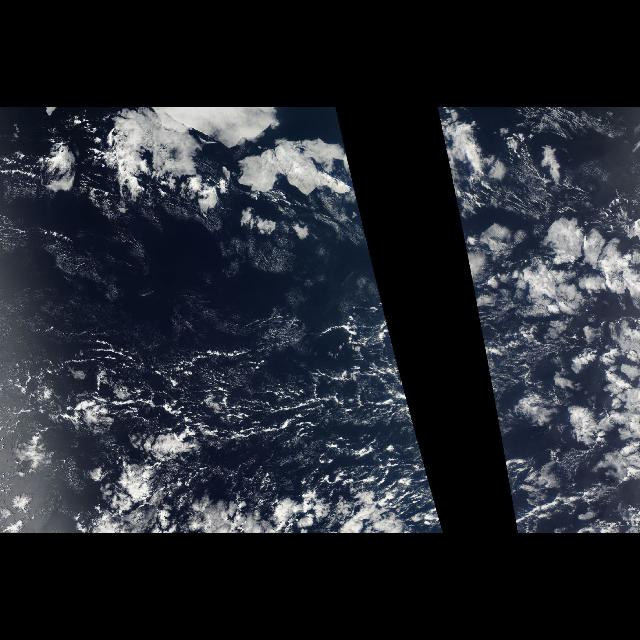Flower: (472, 214, 634, 486)
Gravel: (8, 316, 410, 468)
